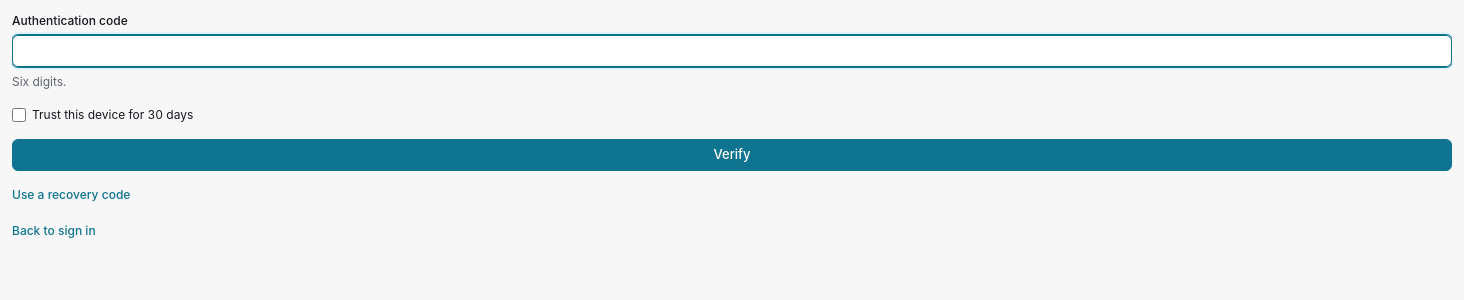
Test: ChallengeForm › says a code is wrong and stays on the page
Type "000000" into the field labelled "Authentication code".
click(732, 51); type("000000")  # box [12,35,1452,67]
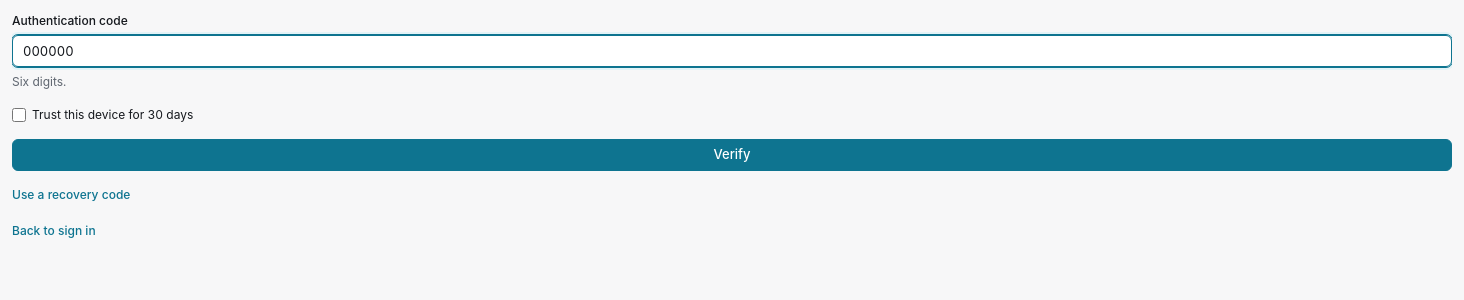
Click the button "Verify".
click(732, 155)  # box [12,139,1452,171]
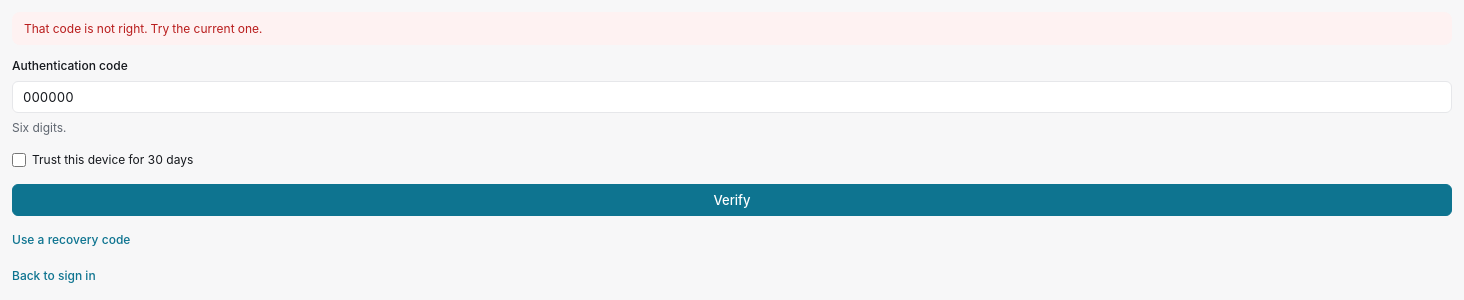
Expected: the message shows "That code is not right.", [24,21,262,36]
